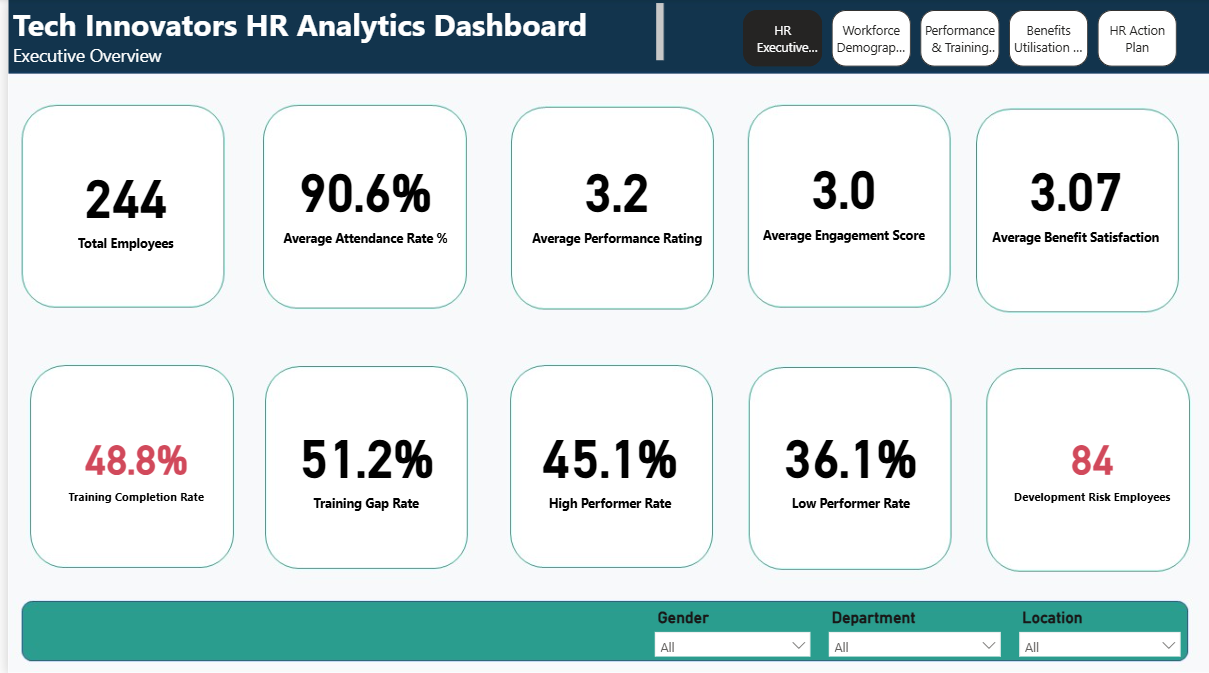

The page's visual inventory and layout, read from the dashboard file:
{"tool":"powerbi","page":{"name":"HR Executive Overview","canvas":[1280,720],"ordinal":0},"visuals":[{"type":"cardVisual","fields":{"Data":["Measures_Table.Total Employees"]},"box":[14.3,120.9,221.1,208.4],"z":0},{"type":"cardVisual","fields":{"Data":["Measures_Table.Average Performance Rating"]},"box":[531.3,124.1,229,190.9],"z":1000},{"type":"cardVisual","fields":{"Data":["Measures_Table.Average Engagement Score"]},"box":[779.4,120.9,214.7,190.9],"z":2000},{"type":"cardVisual","fields":{"Data":["Measures_Table.Training Completion Rate"]},"box":[25.4,405.6,221.1,190.9],"z":3000},{"type":"cardVisual","fields":{"Data":["Measures_Table.Average Attendance Rate %"]},"box":[272,132,214.7,175],"z":4000},{"type":"cardVisual","fields":{"Data":["Employee_Performance_Data.Low Performer Rate"]},"box":[793.7,405.6,200.4,190.9],"z":5000},{"type":"cardVisual","fields":{"Data":["Employee_Performance_Data.High Performer Rate"]},"box":[531.3,405.6,214.7,190.9],"z":6000},{"type":"cardVisual","fields":{"Data":["Employee_Performance_Data.At-Risk Employees"]},"box":[1038.7,405.6,222.7,190.9],"z":7000},{"type":"cardVisual","fields":{"Data":["Measures_Table.Training Gap Rate"]},"box":[268.8,405.6,222.7,190.9],"z":8000},{"type":"cardVisual","fields":{"Data":["Employee_Benefits_Data.Average Benefit Satisfaction"]},"box":[1021.2,120.9,222.7,194.1],"z":9000},{"type":"pageNavigator","box":[778.7,13.3,464.5,60.9],"z":10000},{"type":"slicer","fields":{"Values":["Employee_Demographics_Data.Location"]},"box":[1062.3,641.6,190.4,57.1],"z":11000},{"type":"slicer","fields":{"Values":["Employee_Demographics_Data.Gender"]},"box":[675.9,641.6,184.7,57.1],"z":12000},{"type":"slicer","fields":{"Values":["Employee_Performance_Data.Department"]},"box":[860.5,641.6,201.8,57.1],"z":13000},{"type":"textbox","box":[0,0,700.6,74.2],"z":14000},{"type":"actionButton","box":[871.7,12.7,89.1,60.4],"z":15000},{"type":"actionButton","box":[971.9,12.7,77.9,62],"z":16000},{"type":"actionButton","box":[1062.5,12.7,87.5,62],"z":17000},{"type":"actionButton","box":[1151.6,12.7,93.8,60.4],"z":18000}]}

Visuals, with their boxes in screenshot pixels (x1, y1, x2, y2), scaled from the page's 1280x720 canvas onto the 1209x673 screenshot:
cardVisual - Measures_Table.Total Employees: {"left": 14, "top": 113, "right": 222, "bottom": 308}
cardVisual - Measures_Table.Average Performance Rating: {"left": 502, "top": 116, "right": 718, "bottom": 294}
cardVisual - Measures_Table.Average Engagement Score: {"left": 736, "top": 113, "right": 939, "bottom": 291}
cardVisual - Measures_Table.Training Completion Rate: {"left": 24, "top": 379, "right": 233, "bottom": 558}
cardVisual - Measures_Table.Average Attendance Rate %: {"left": 257, "top": 123, "right": 460, "bottom": 287}
cardVisual - Employee_Performance_Data.Low Performer Rate: {"left": 750, "top": 379, "right": 939, "bottom": 558}
cardVisual - Employee_Performance_Data.High Performer Rate: {"left": 502, "top": 379, "right": 705, "bottom": 558}
cardVisual - Employee_Performance_Data.At-Risk Employees: {"left": 981, "top": 379, "right": 1191, "bottom": 558}
cardVisual - Measures_Table.Training Gap Rate: {"left": 254, "top": 379, "right": 464, "bottom": 558}
cardVisual - Employee_Benefits_Data.Average Benefit Satisfaction: {"left": 965, "top": 113, "right": 1175, "bottom": 294}
pageNavigator: {"left": 736, "top": 12, "right": 1174, "bottom": 69}
slicer - Employee_Demographics_Data.Location: {"left": 1003, "top": 600, "right": 1183, "bottom": 653}
slicer - Employee_Demographics_Data.Gender: {"left": 638, "top": 600, "right": 813, "bottom": 653}
slicer - Employee_Performance_Data.Department: {"left": 813, "top": 600, "right": 1003, "bottom": 653}
textbox: {"left": 0, "top": 0, "right": 662, "bottom": 69}
actionButton: {"left": 823, "top": 12, "right": 908, "bottom": 68}
actionButton: {"left": 918, "top": 12, "right": 992, "bottom": 70}
actionButton: {"left": 1004, "top": 12, "right": 1086, "bottom": 70}
actionButton: {"left": 1088, "top": 12, "right": 1176, "bottom": 68}
